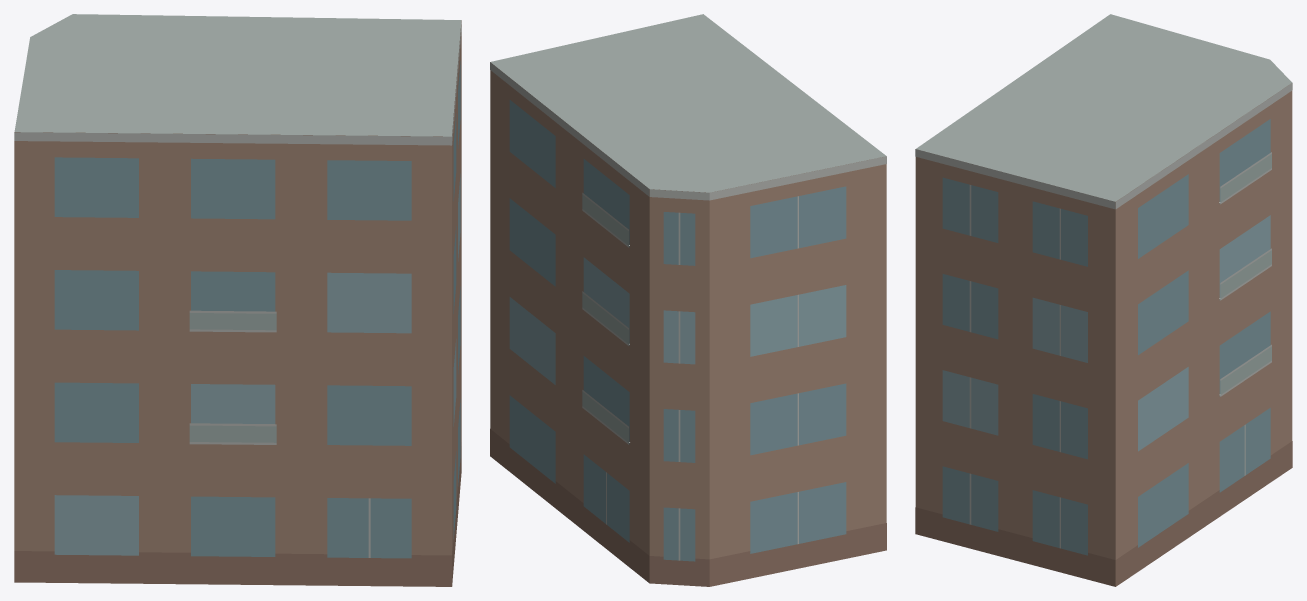
Rendered from survey-upis-32891264.glb.
3 renders of one model, left to right at view 1: azimuth 30°, elevation 25°; view 2: azimuth 150°, elevation 25°; view 3: azimuth 270°, elevation 25°, orthographic. The views are drawn at different scales.
Visible parts, largest first — view 1: survey-upis-32891264.tmp; view 2: survey-upis-32891264.tmp; view 3: survey-upis-32891264.tmp.
Boxes of the visible parts, x1,y1,x2,y2 form: survey-upis-32891264.tmp: (14,14,461,586); survey-upis-32891264.tmp: (490,14,886,586); survey-upis-32891264.tmp: (915,14,1292,586).
Size of the model in its own units: 12.82 by 12.25 by 10.87.
